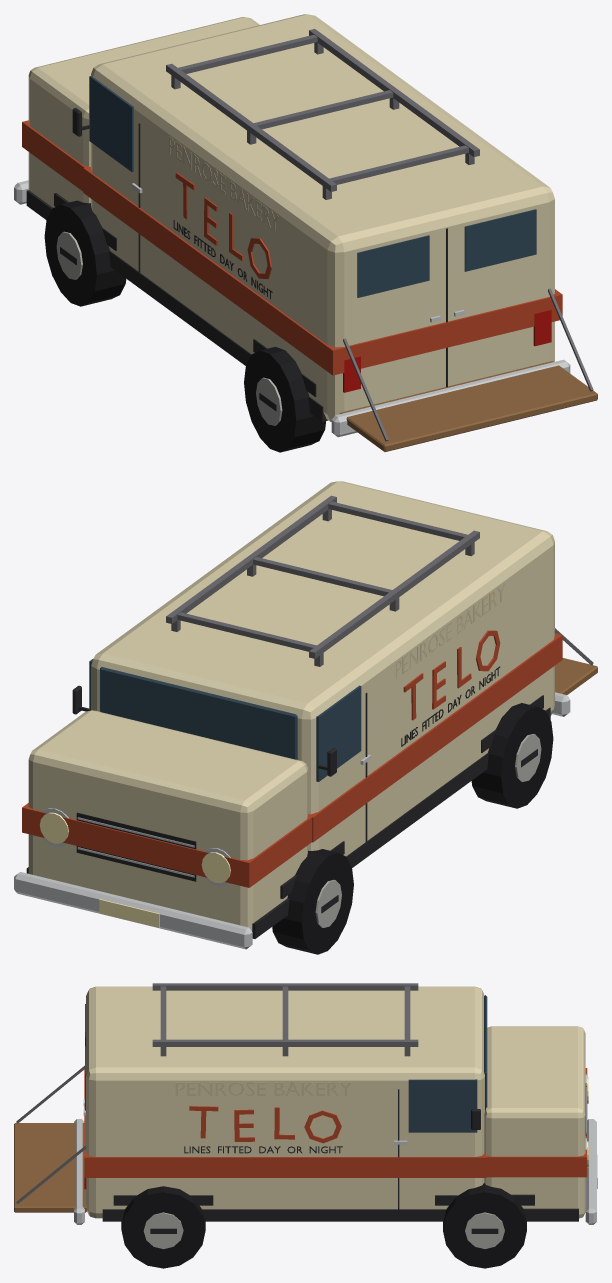
File: vehicle.van.glb
3 renders of one model, top to bottom at view 1: azimuth 30°, elevation 25°; view 2: azimuth 150°, elevation 25°; view 3: azimuth 270°, elevation 25°, orthographic. The views are drawn at different scales.
Visible parts, largest first — view 1: body, stripe, tailboard, bonnet, wheel-fl-tyre, wheel-rl-tyre, rear-window-1, rear-window--1, sill, cab-window-l, rack-rail--1, rack-rail-1 (+10 smaller); view 2: body, bonnet, windscreen, stripe, stripe-nose, wheel-fl-tyre, wheel-rl-tyre, bumper-front, sill, cab-window-l, rack-rail--1, rack-rail-1 (+11 smaller); view 3: body, bonnet, stripe, tailboard, wheel-fr-tyre, wheel-rr-tyre, sill, cab-window-r, stripe-nose, rack-rail-1, rack-rail--1, ghost-1 (+13 smaller).
Boxes of the visible parts, x1=… form: body: x1=91, y1=14, x2=554, y2=421; stripe: x1=83, y1=167, x2=562, y2=375; tailboard: x1=340, y1=361, x2=597, y2=451; bonnet: x1=28, y1=17, x2=259, y2=207; wheel-fl-tyre: x1=44, y1=200, x2=126, y2=306; wheel-rl-tyre: x1=244, y1=346, x2=325, y2=452; rear-window-1: x1=464, y1=209, x2=536, y2=271; rear-window--1: x1=357, y1=235, x2=429, y2=297; sill: x1=26, y1=190, x2=328, y2=421; cab-window-l: x1=89, y1=75, x2=133, y2=172; rack-rail--1: x1=166, y1=63, x2=336, y2=191; rack-rail-1: x1=309, y1=29, x2=479, y2=156; body: x1=91, y1=481, x2=554, y2=856; bonnet: x1=28, y1=710, x2=307, y2=930; windscreen: x1=100, y1=667, x2=297, y2=759; stripe: x1=308, y1=633, x2=562, y2=842; stripe-nose: x1=22, y1=803, x2=313, y2=887; wheel-fl-tyre: x1=272, y1=849, x2=353, y2=954; wheel-rl-tyre: x1=471, y1=703, x2=553, y2=808; bumper-front: x1=14, y1=872, x2=252, y2=949; sill: x1=26, y1=707, x2=550, y2=938; cab-window-l: x1=316, y1=685, x2=361, y2=781; rack-rail--1: x1=309, y1=530, x2=479, y2=658; rack-rail-1: x1=166, y1=495, x2=336, y2=623; body: x1=86, y1=986, x2=484, y2=1218; bonnet: x1=484, y1=1026, x2=585, y2=1218; stripe: x1=84, y1=1069, x2=486, y2=1177; tailboard: x1=14, y1=1123, x2=86, y2=1212; wheel-fr-tyre: x1=443, y1=1183, x2=526, y2=1268; wheel-rr-tyre: x1=121, y1=1186, x2=205, y2=1268; sill: x1=102, y1=1208, x2=578, y2=1221; cab-window-r: x1=408, y1=1079, x2=477, y2=1132; stripe-nose: x1=486, y1=1068, x2=587, y2=1177; rack-rail-1: x1=152, y1=1039, x2=418, y2=1046; rack-rail--1: x1=152, y1=983, x2=418, y2=990; ghost-1: x1=175, y1=1082, x2=352, y2=1095.
Size of the model in its own units: 2.2 by 2.04 by 5.27.
